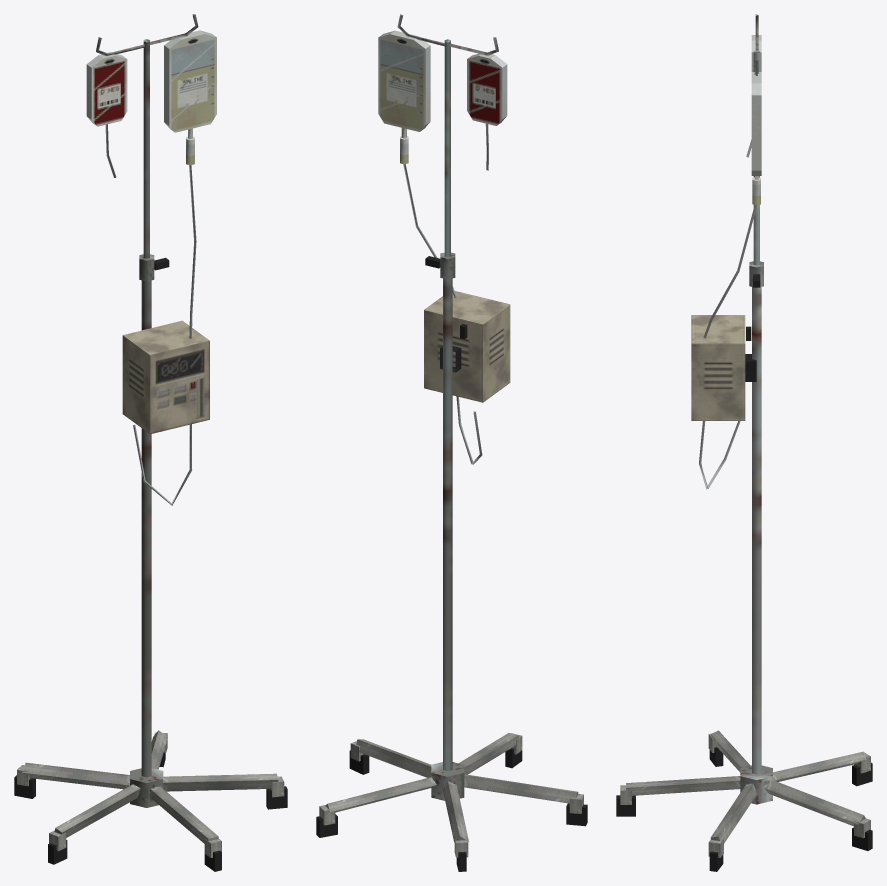
Rendered from iv_stand.obj.
The picture shows the model from 3 angles, left to right: view 1: azimuth 30°, elevation 25°; view 2: azimuth 150°, elevation 25°; view 3: azimuth 270°, elevation 25°; orthographic projection.
Visible parts, largest first — view 1: iv_stand; view 2: iv_stand; view 3: iv_stand.
Part boxes in pixels (box(x1,y1,x2,y2)): iv_stand: box(14, 14, 287, 871); iv_stand: box(316, 14, 587, 871); iv_stand: box(616, 14, 872, 871).
Size of the model in its own units: 0.5989 by 1.91 by 0.5696.
1 material, 1 textured.
